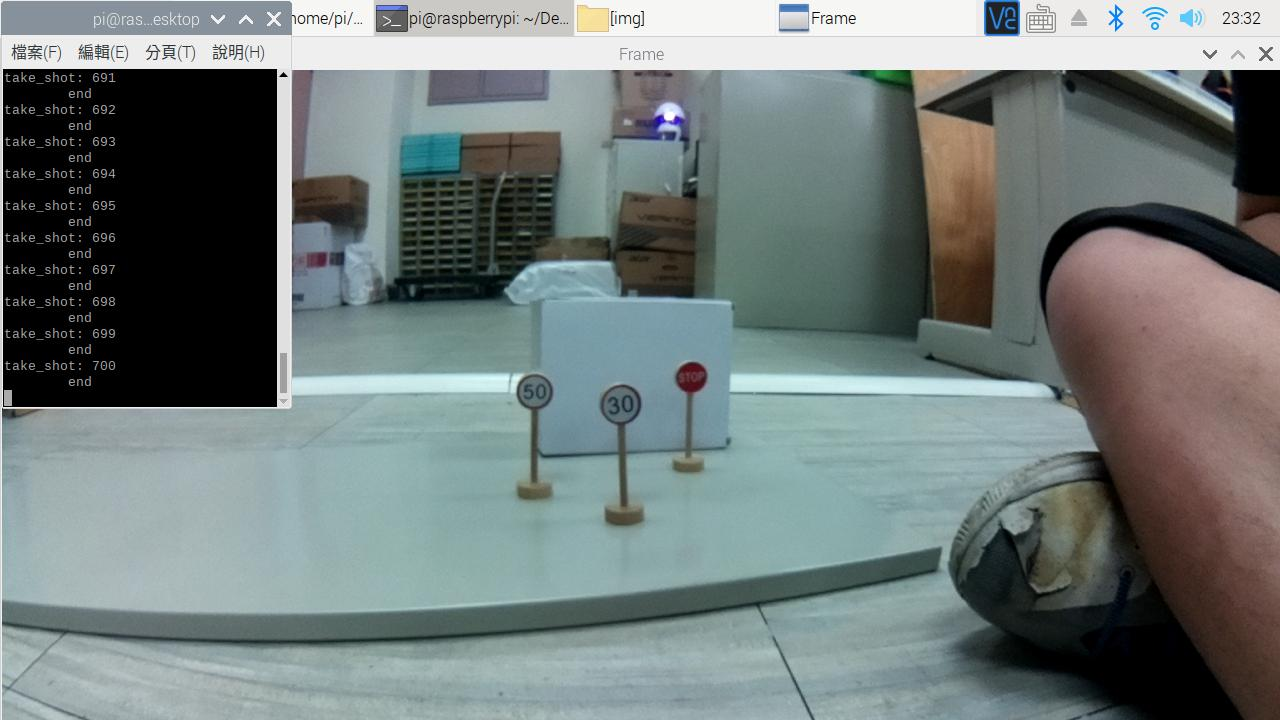Speed30: (590, 382, 644, 422)
Speed50: (508, 373, 564, 420)
Stop: (676, 355, 716, 394)
